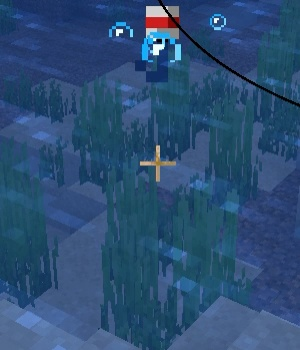up: (132, 6, 181, 86)
